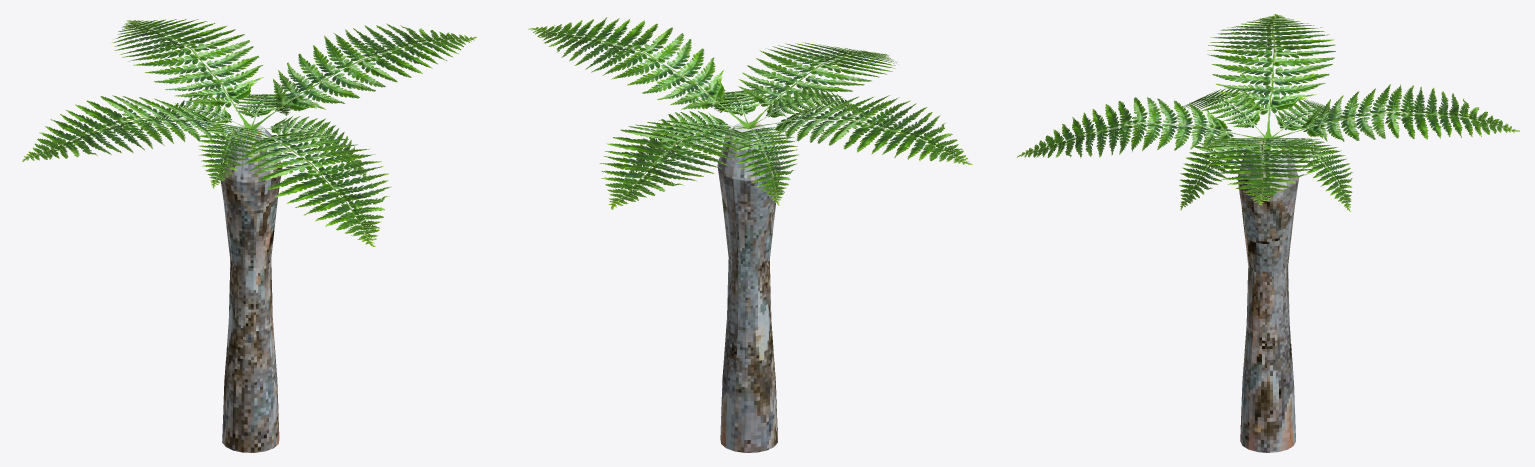
Rendered from CyatheaPlant.fbx.
3 renders of one model, left to right at view 1: azimuth 30°, elevation 25°; view 2: azimuth 150°, elevation 25°; view 3: azimuth 270°, elevation 25°, orthographic. The views are drawn at different scales.
Parts seen in each view (by area): view 1: Leafs, Cylinder; view 2: Leafs, Cylinder; view 3: Leafs, Cylinder.
Boxes of the visible parts, bbox=[...] form: Leafs: bbox=[22, 19, 476, 246]; Cylinder: bbox=[219, 124, 282, 452]; Leafs: bbox=[528, 17, 972, 209]; Cylinder: bbox=[717, 121, 780, 452]; Leafs: bbox=[1017, 14, 1519, 211]; Cylinder: bbox=[1237, 134, 1298, 452].
Size of the model in its own units: 396 by 304 by 399.
